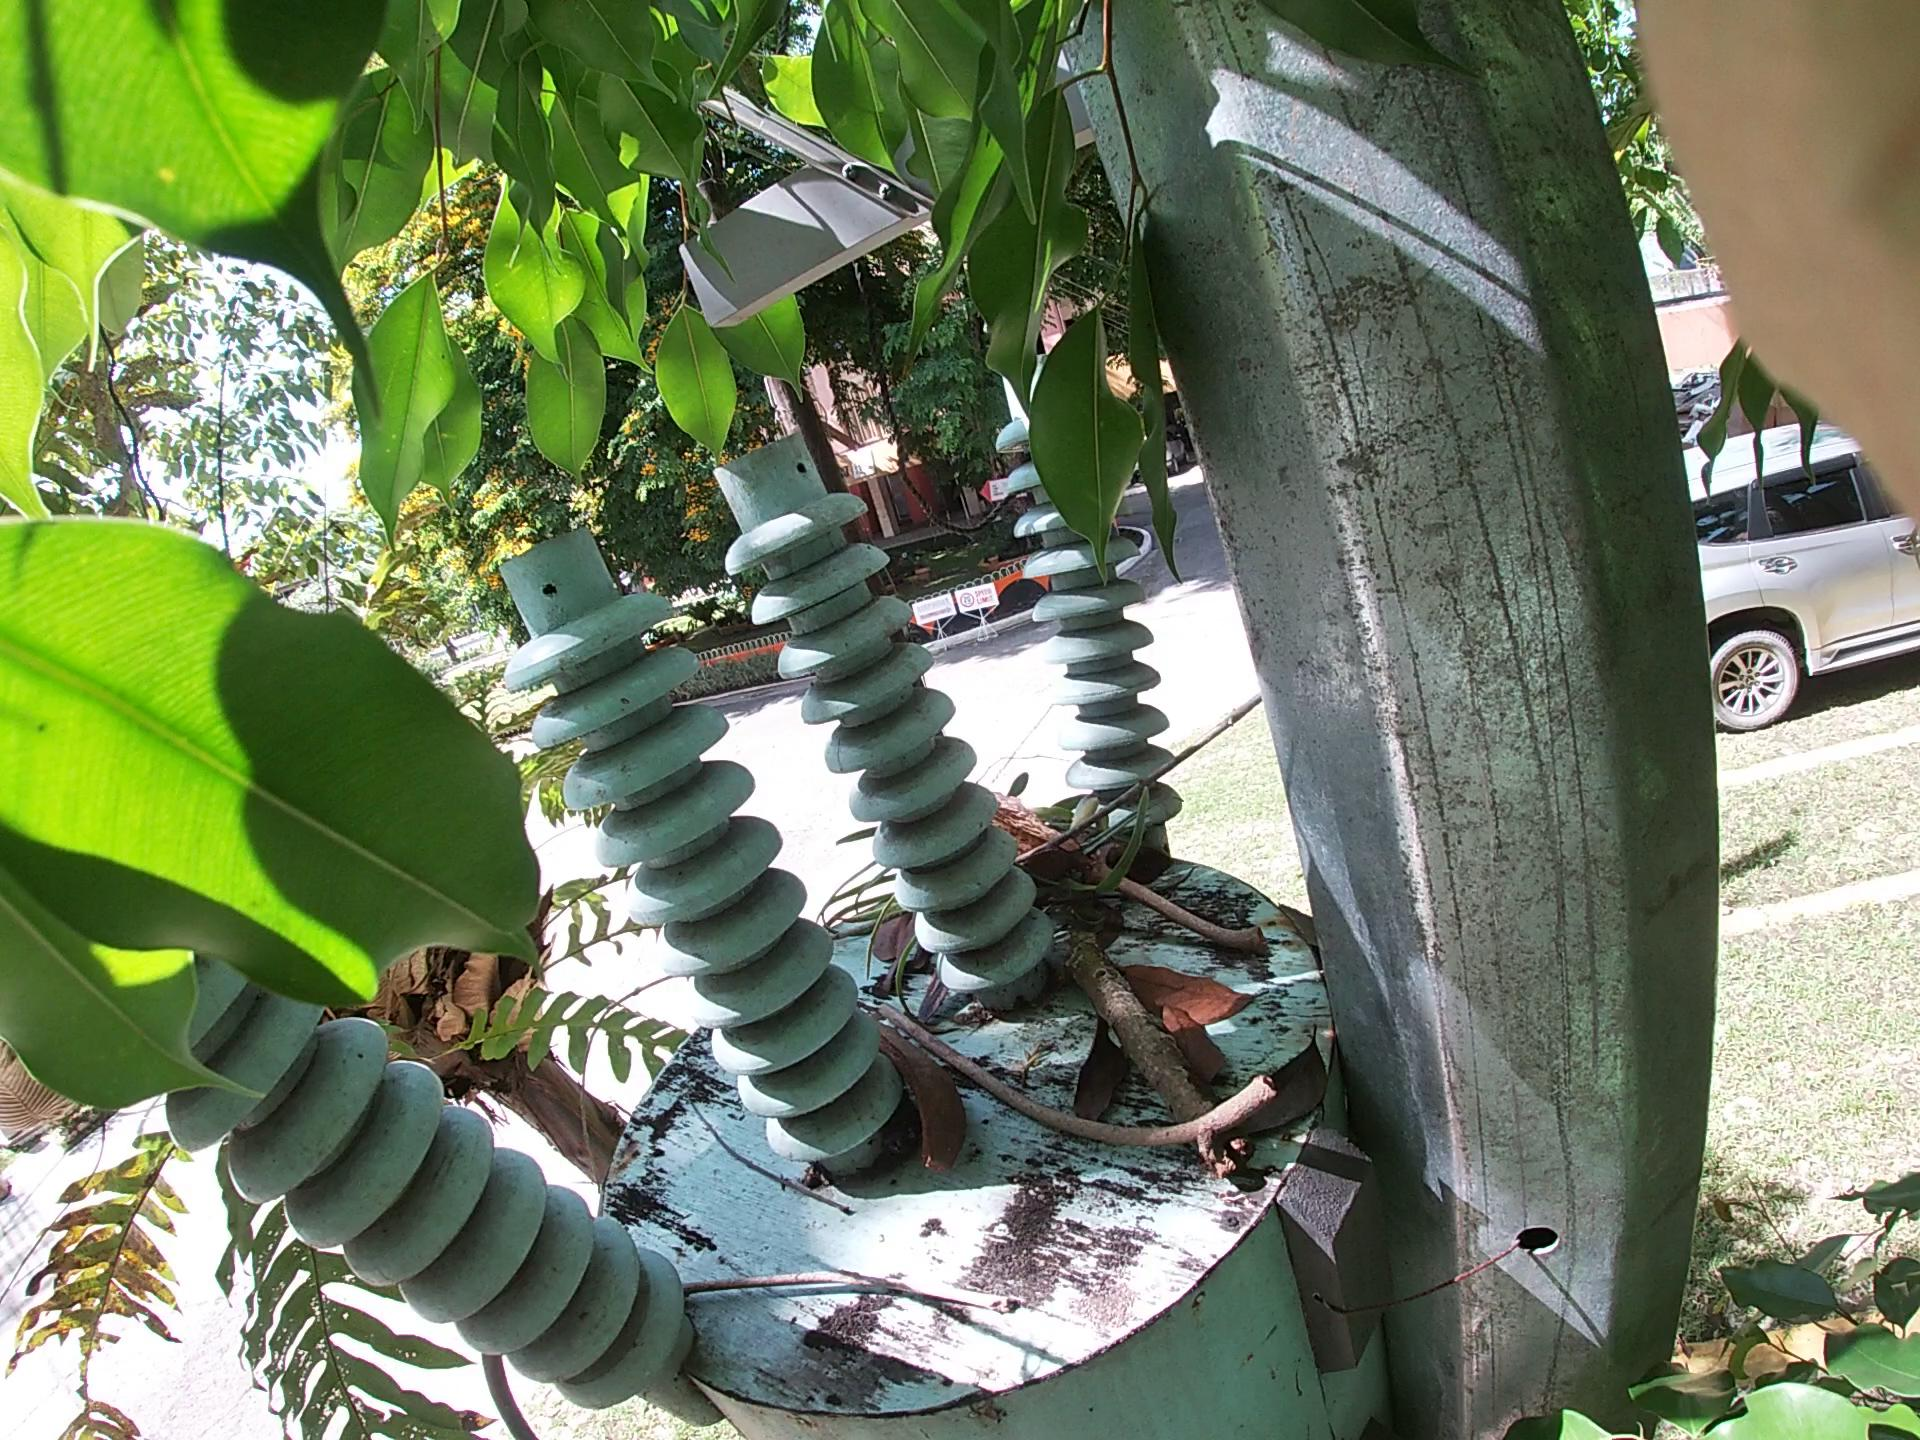leaf: (962, 967, 1445, 1193), (1137, 948, 1232, 1124)
tree branch: (804, 1006, 1305, 1222), (945, 771, 1350, 967), (1054, 906, 1231, 1165), (659, 1265, 1042, 1305)
